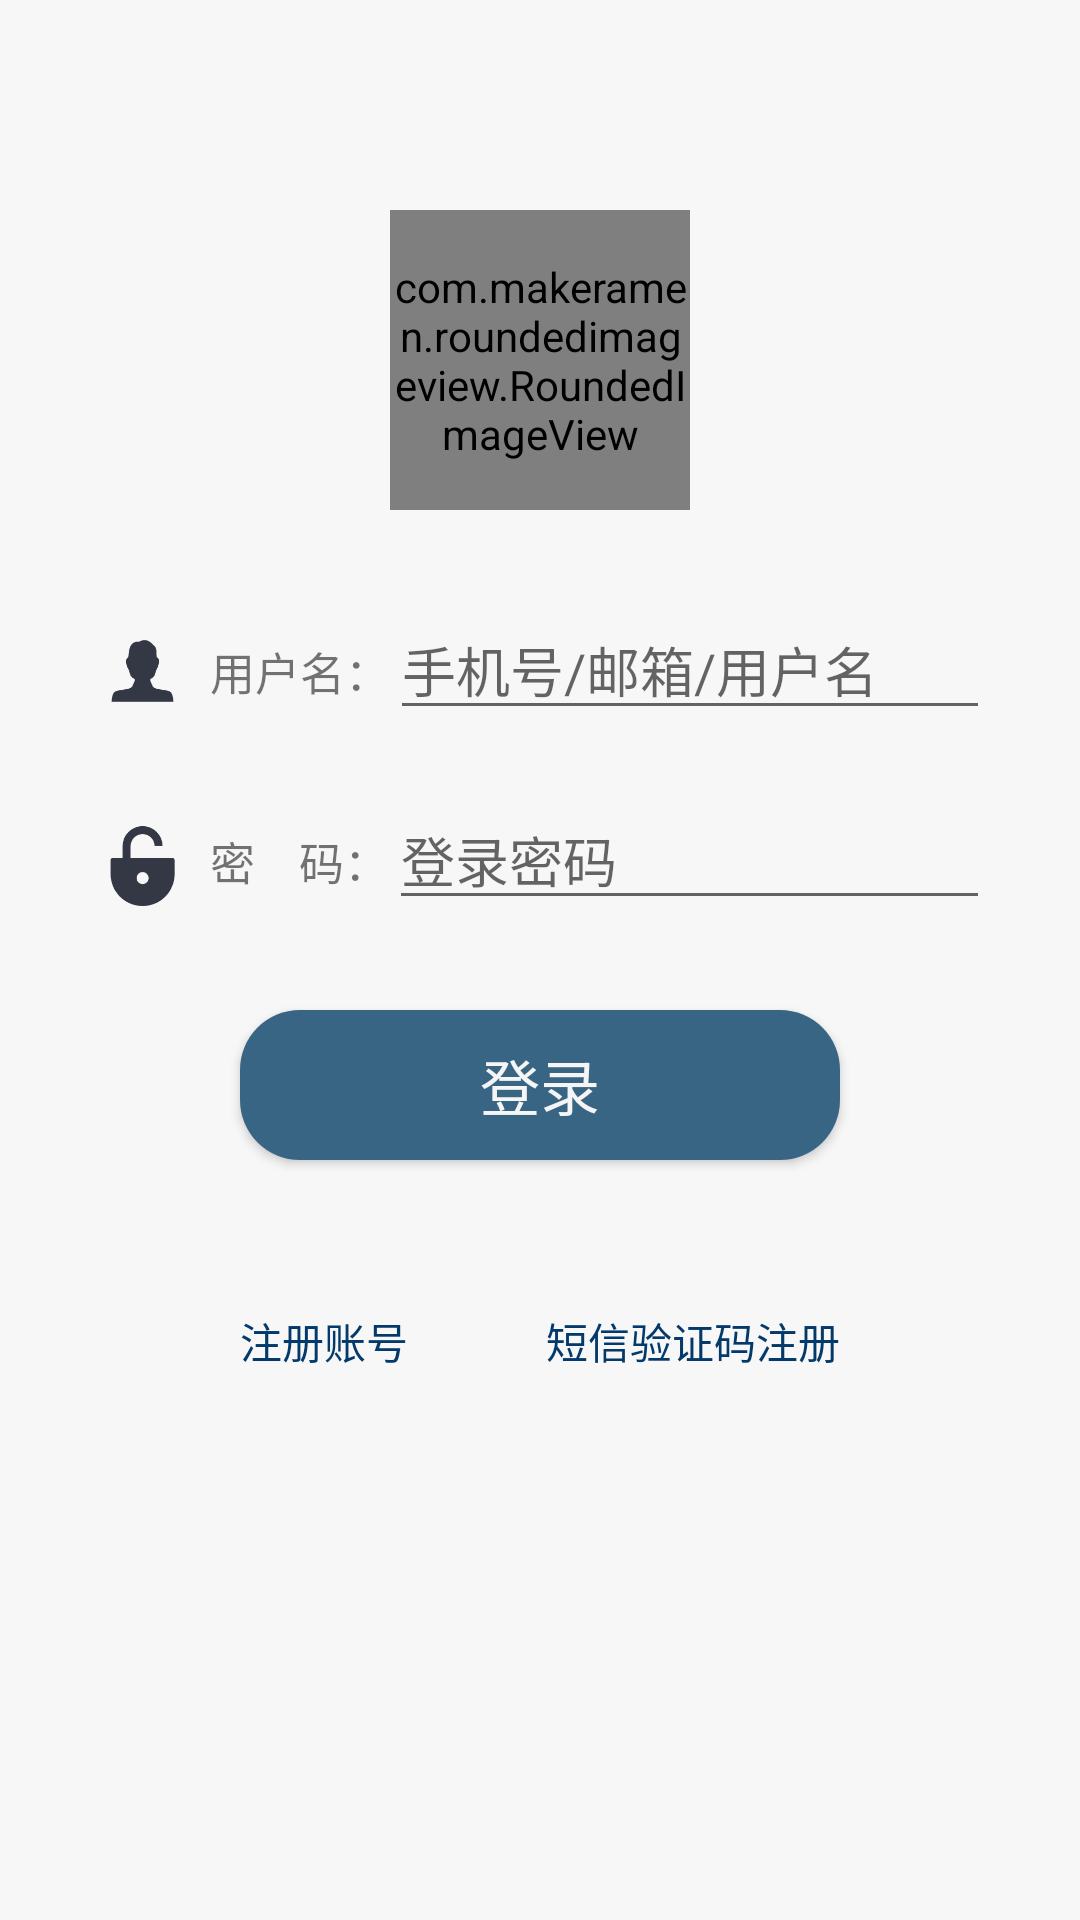

Where icons sit on this 1080*1920 app screen, as (x1, y1, x2, y2):
user: (111, 640, 174, 702)
